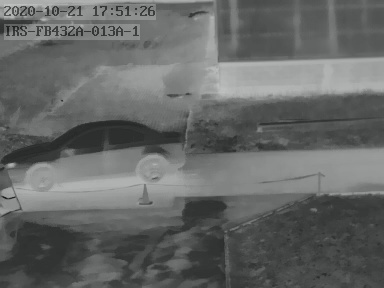vehicle: (1, 117, 188, 193)
